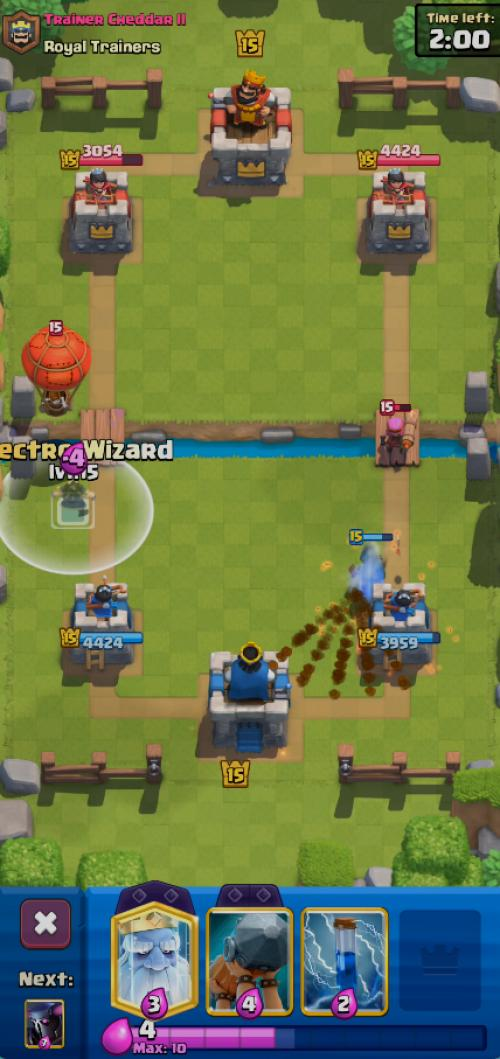Enemy-Balloon: (22, 321, 89, 415)
Enemy-Firecracker: (376, 416, 418, 456)
Enemy-KingTower: (210, 71, 291, 189)
Enemy-PrincessTower: (68, 168, 132, 255), (367, 168, 429, 254)
